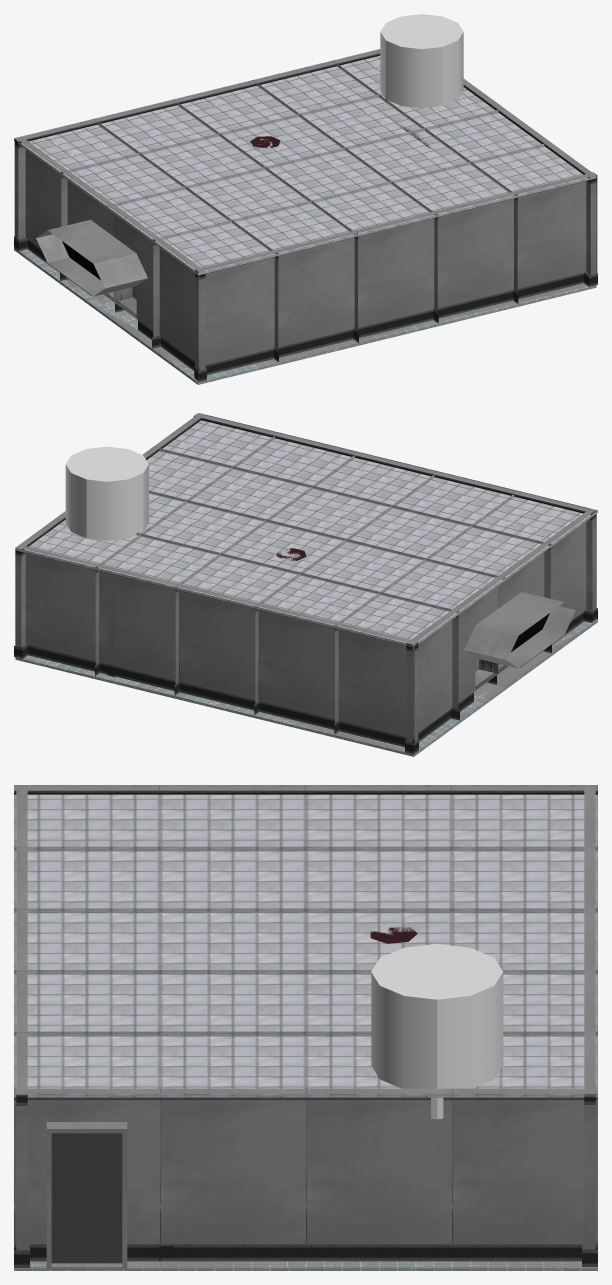
File: ENV_ Kras.fbx
3 renders of one model, top to bottom at view 1: azimuth 30°, elevation 25°; view 2: azimuth 150°, elevation 25°; view 3: azimuth 270°, elevation 25°, orthographic. The views are drawn at different scales.
Parts seen in each view (by area): view 1: Ceiling, Walls, Window, Walls.003, Cylinder.004, Floor, Walls.001, Wall_Doorframe, Walls.002; view 2: Ceiling, Walls.001, Window, Walls.003, Cylinder.004, Floor, Walls, Walls.002, Cube.030; view 3: Ceiling, Walls.002, Cylinder.004, Wall_Doorframe, Door, Walls, Walls.001, Floor, Window, Walls.003.
Boxes of the visible parts, left/top/right/bottom form: Ceiling: left=14, top=49, right=596, bottom=275; Walls: left=194, top=172, right=597, bottom=380; Window: left=36, top=170, right=160, bottom=348; Walls.003: left=14, top=136, right=206, bottom=382; Cylinder.004: left=380, top=14, right=463, bottom=108; Floor: left=14, top=248, right=596, bottom=384; Walls.001: left=14, top=50, right=380, bottom=251; Wall_Doorframe: left=544, top=142, right=597, bottom=286; Walls.002: left=463, top=79, right=549, bottom=143; Ceiling: left=15, top=414, right=597, bottom=647; Walls.001: left=21, top=545, right=418, bottom=753; Window: left=452, top=542, right=575, bottom=719; Walls.003: left=405, top=508, right=597, bottom=754; Cylinder.004: left=65, top=446, right=148, bottom=540; Floor: left=15, top=619, right=597, bottom=756; Walls: left=193, top=413, right=596, bottom=622; Walls.002: left=14, top=447, right=159, bottom=658; Cube.030: left=107, top=451, right=206, bottom=676; Ceiling: left=14, top=785, right=597, bottom=1097; Walls.002: left=160, top=1088, right=597, bottom=1267; Cylinder.004: left=371, top=944, right=503, bottom=1119; Wall_Doorframe: left=14, top=1088, right=159, bottom=1269; Door: left=51, top=1133, right=122, bottom=1263; Walls: left=14, top=786, right=29, bottom=1267; Walls.001: left=582, top=785, right=597, bottom=1266; Floor: left=14, top=1261, right=597, bottom=1270; Window: left=160, top=786, right=451, bottom=794; Walls.003: left=14, top=786, right=597, bottom=794.
Size of the model in its own units: 1096 by 404 by 800.
20 materials, 11 textured.
